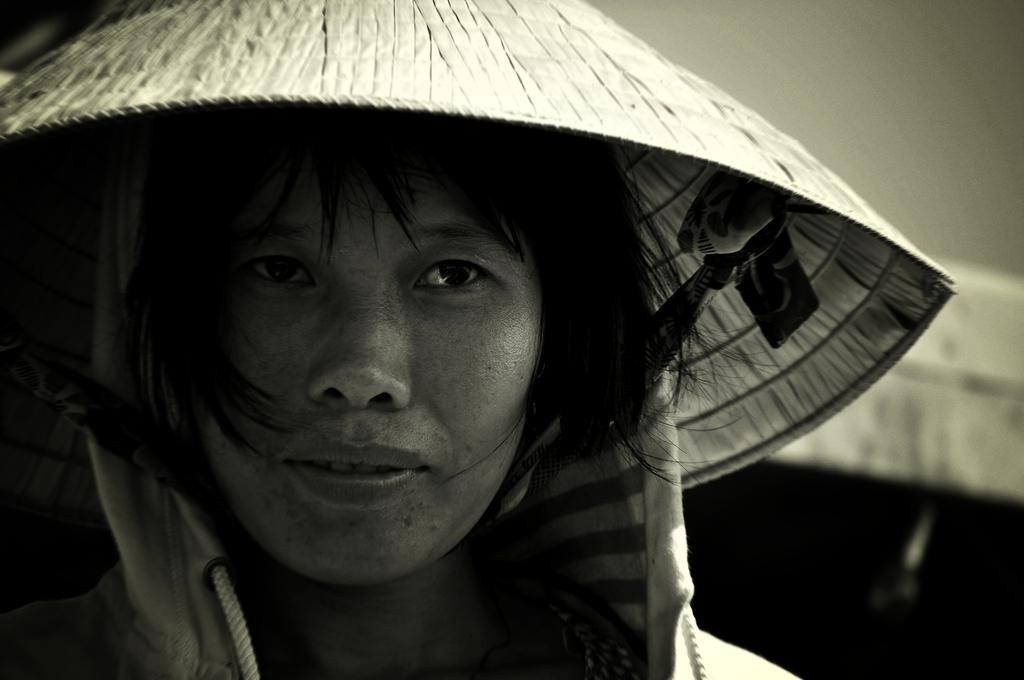Hat: (0, 0, 956, 487)
